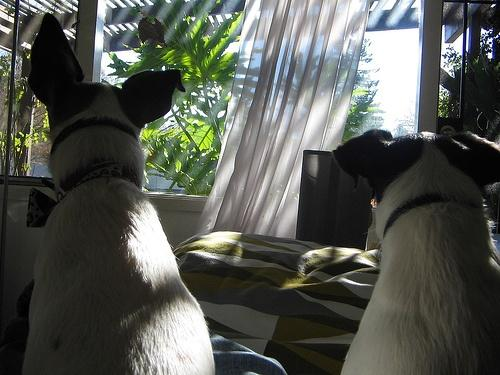tampered: (138, 11, 192, 49)
